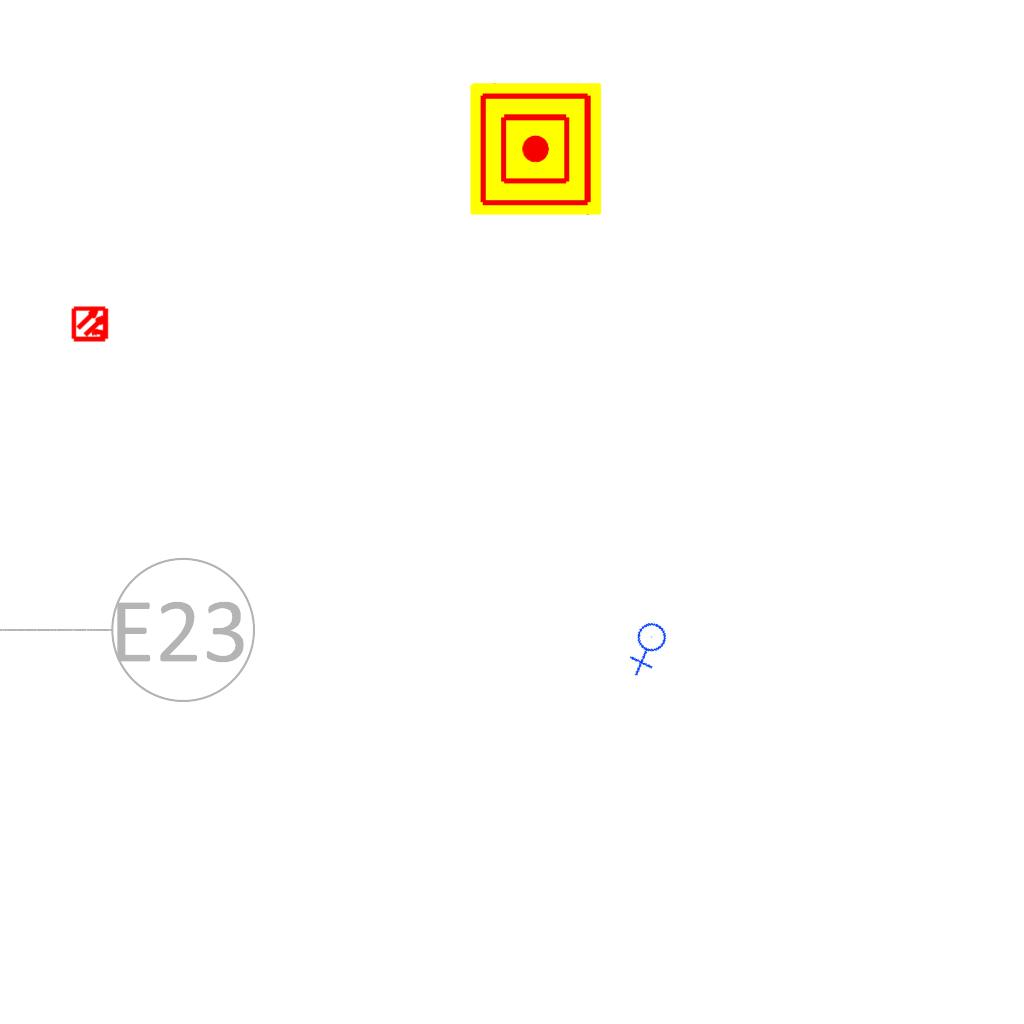Elektroanschluss_allgemein_230V_Geraeteanschlussdose_230V: (617, 616, 682, 679)
NAM-Nichtautomatischer_Melder: (470, 83, 602, 215)
OT_Multisensormelder_(Kombination_RMO_WMD): (63, 296, 119, 352)
